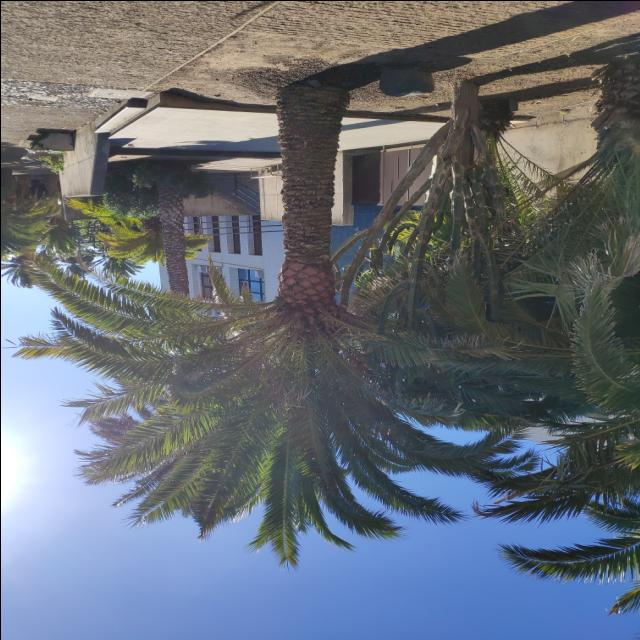Palm-Trees: (52, 81, 554, 541)
